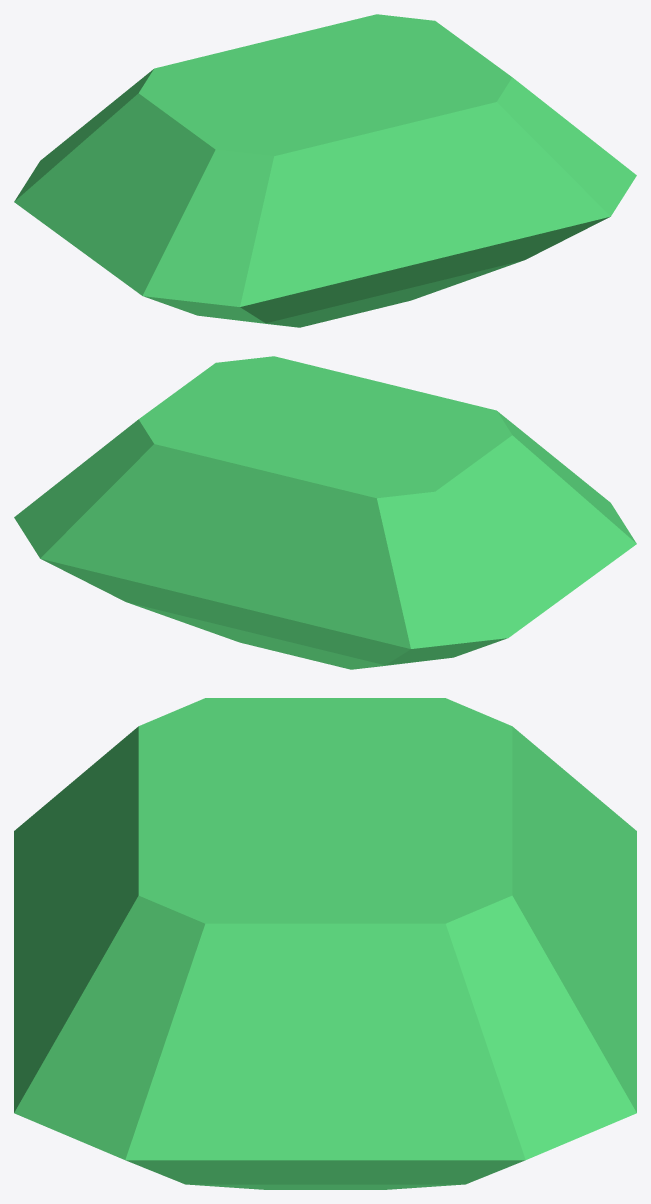
Rendered from gem_emerald.glb.
3 views of the same model, one above another, from view 1: azimuth 30°, elevation 25°; view 2: azimuth 150°, elevation 25°; view 3: azimuth 270°, elevation 25° (orthographic). The views are drawn at different scales.
Visible parts, largest first — view 1: GemEmeraldCut; view 2: GemEmeraldCut; view 3: GemEmeraldCut.
Boxes of the visible parts, x1,y1,x2,y2 form: GemEmeraldCut: (14, 14, 636, 327); GemEmeraldCut: (14, 356, 636, 669); GemEmeraldCut: (14, 698, 636, 1189).
Size of the model in its own units: 2 by 0.8 by 1.4.
